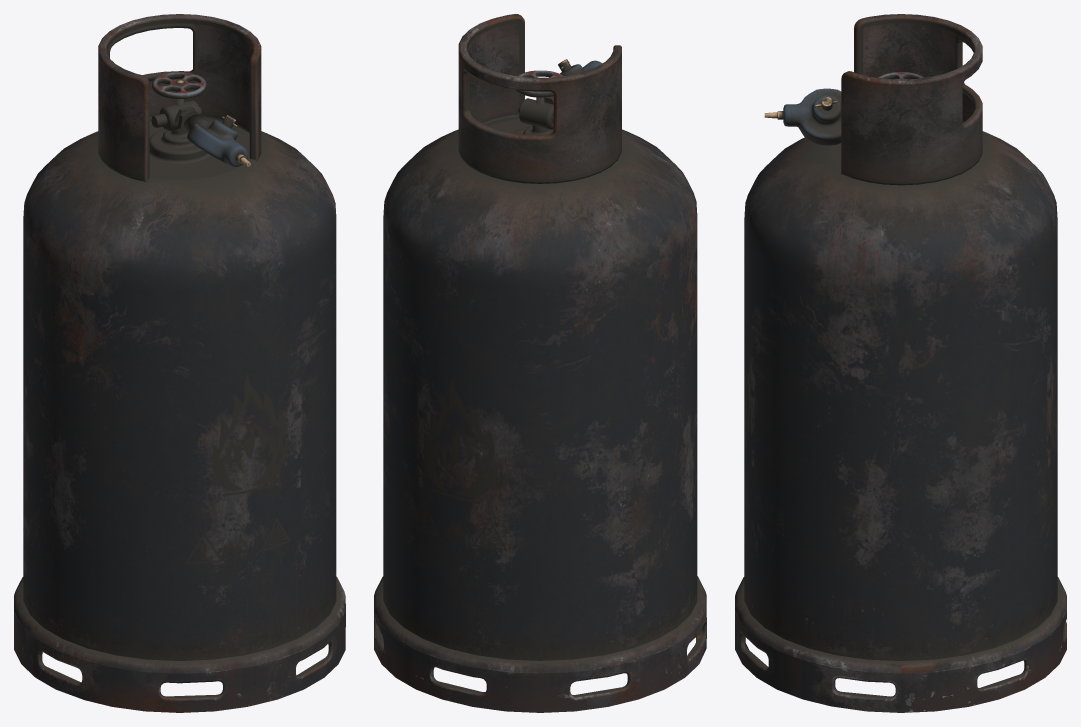
The model's file is gas_cylinder_10mb.glb.
3 renders of one model, left to right at view 1: azimuth 30°, elevation 25°; view 2: azimuth 150°, elevation 25°; view 3: azimuth 270°, elevation 25°, orthographic.
Visible parts, largest first — view 1: Cylinder_3; view 2: Cylinder_3; view 3: Cylinder_3.
Boxes of the visible parts, bbox=[...] form: Cylinder_3: bbox=[14, 14, 345, 712]; Cylinder_3: bbox=[374, 14, 706, 712]; Cylinder_3: bbox=[735, 14, 1066, 712].
Size of the model in its own units: 1 by 1.97 by 0.9945.
Materials: 1 (1 with a texture image).
